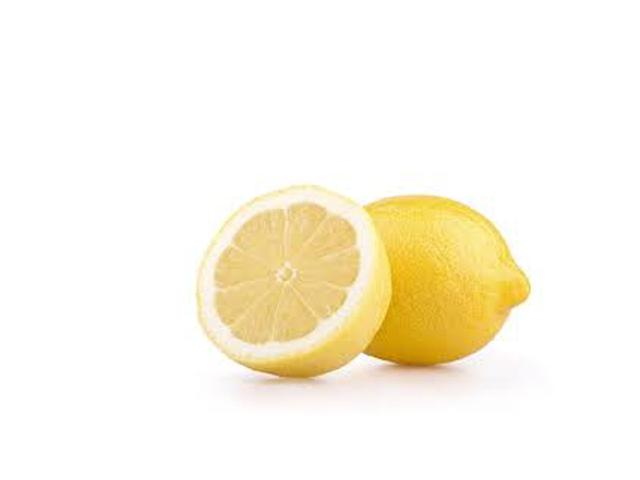lemon: (349, 180, 531, 386)
